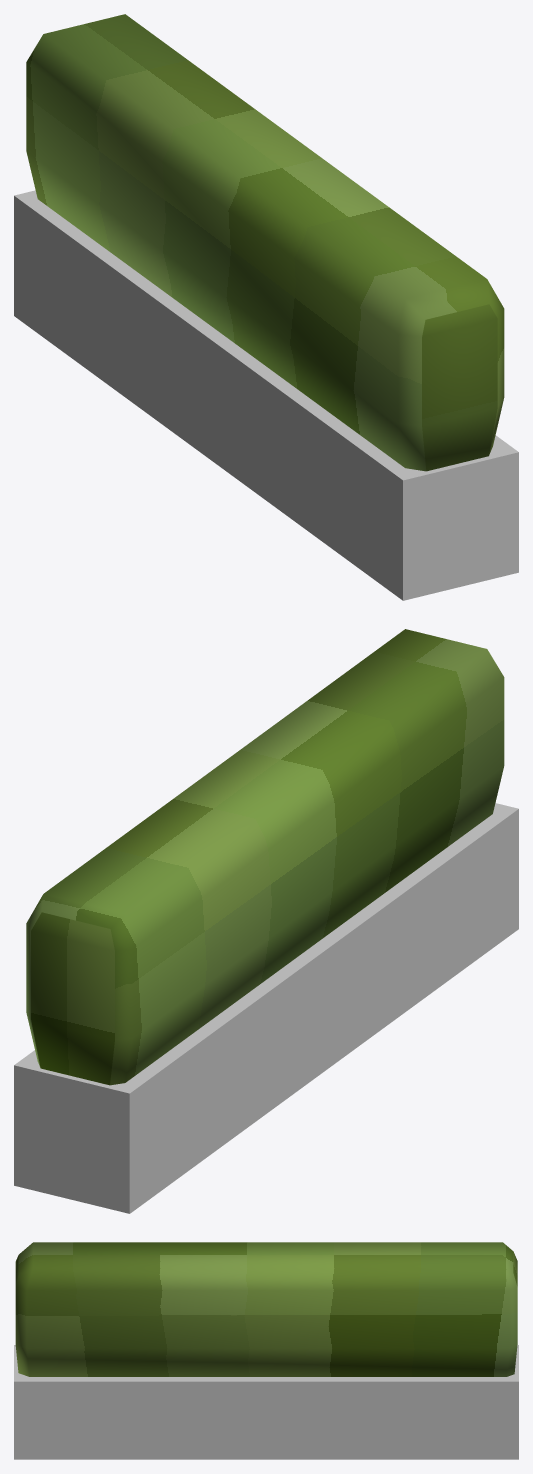
The model's file is JpHouseJ_Hedge02b.fbx.
3 renders of one model, top to bottom at view 1: azimuth 30°, elevation 25°; view 2: azimuth 150°, elevation 25°; view 3: azimuth 270°, elevation 25°, orthographic. The views are drawn at different scales.
Parts seen in each view (by area): view 1: JpHouseJ_Hedge02b; view 2: JpHouseJ_Hedge02b; view 3: JpHouseJ_Hedge02b.
Part boxes in pixels (x1,y1,x2,y2): JpHouseJ_Hedge02b: (14, 14, 518, 600); JpHouseJ_Hedge02b: (14, 629, 518, 1213); JpHouseJ_Hedge02b: (14, 1242, 518, 1459).
Bounding box in the file's own units: 1.09 × 2.59 × 6.36.
